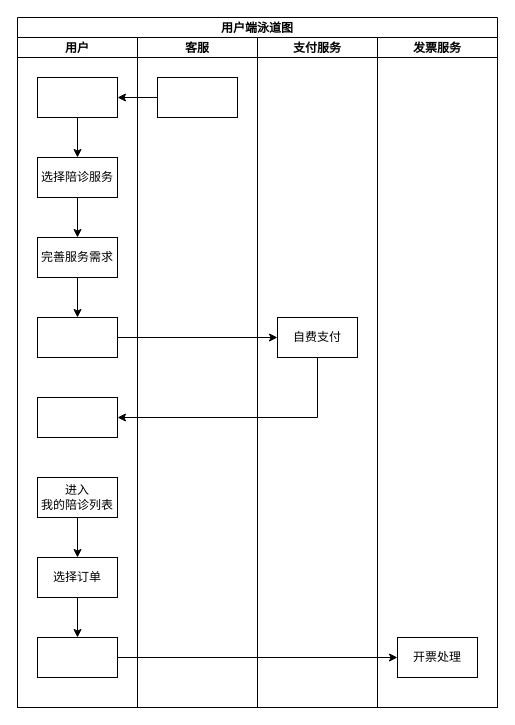
Some shapes in this 515 by 725 pixel diagram are drawn without their labels. The centre of each missing label's shape, as x and y in pixels:
"扫码" belongs at (x=77, y=97).
"提交订单" belongs at (x=77, y=337).
"提供二维码" belongs at (x=197, y=97).
"申请发票" belongs at (x=77, y=657).
"订单详情 （等待服务）" belongs at (x=77, y=417).
